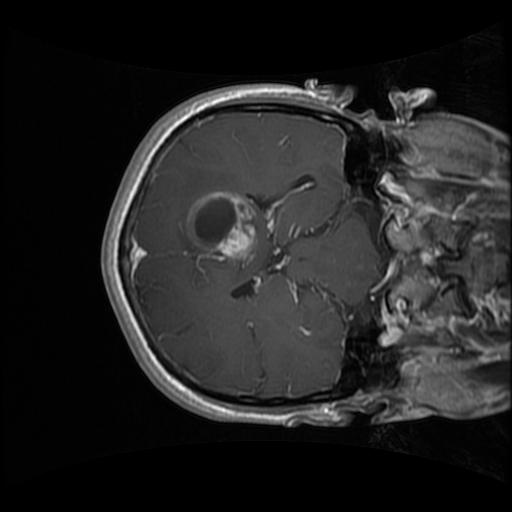glioma: (176, 184, 261, 271)
